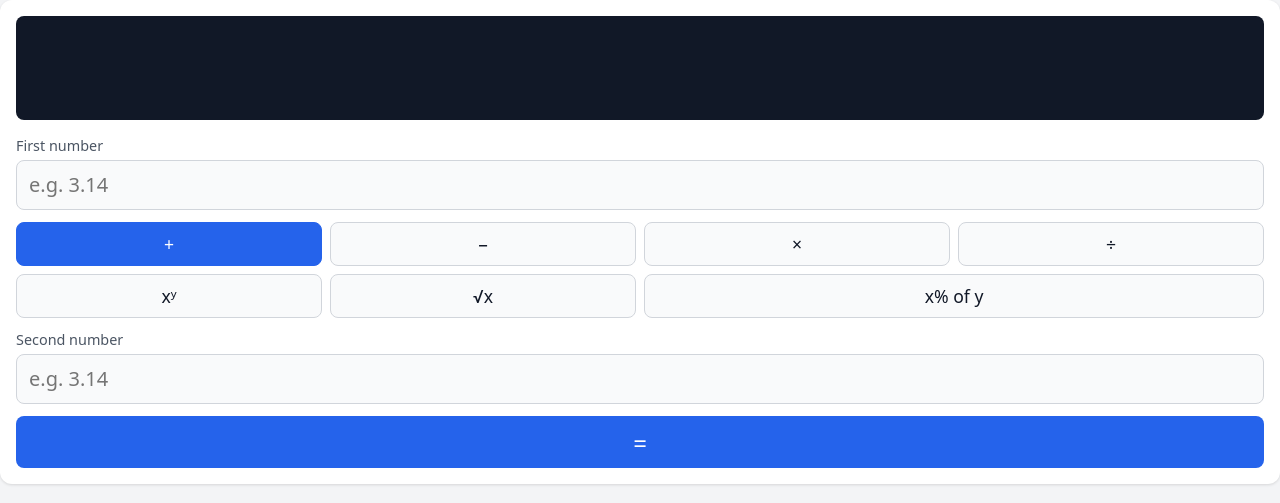
Test: Calculator › shows API errors and moves focus to them
The width and height of the screenshot is (1280, 503).
In the field labelled "First number": coordinates (640, 185) left=16, top=160, right=1264, bottom=210, type "1"
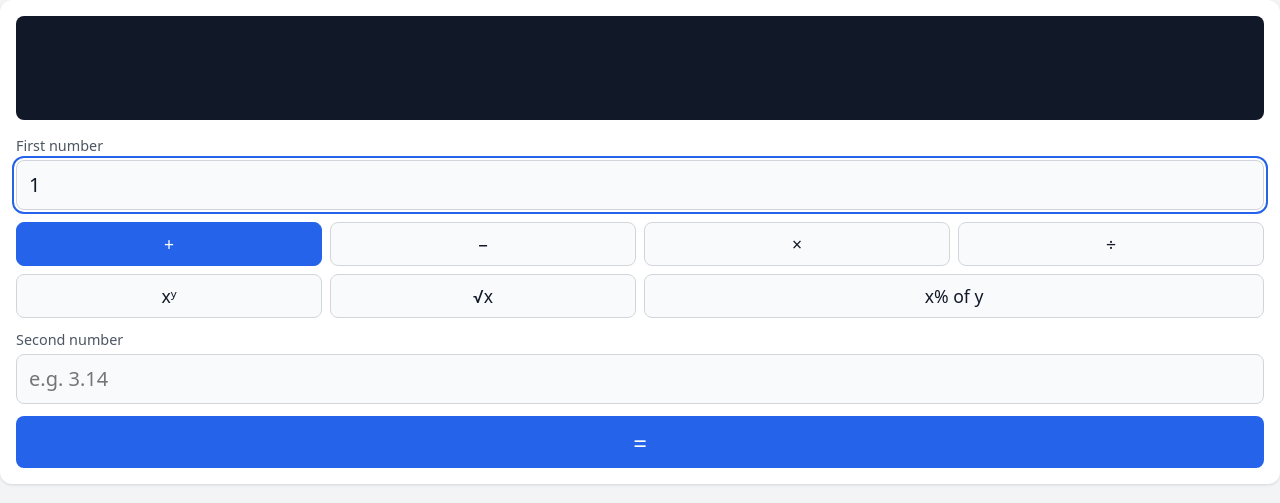
Click the radio button named "Divide": coordinates (1111, 244) left=958, top=222, right=1264, bottom=266
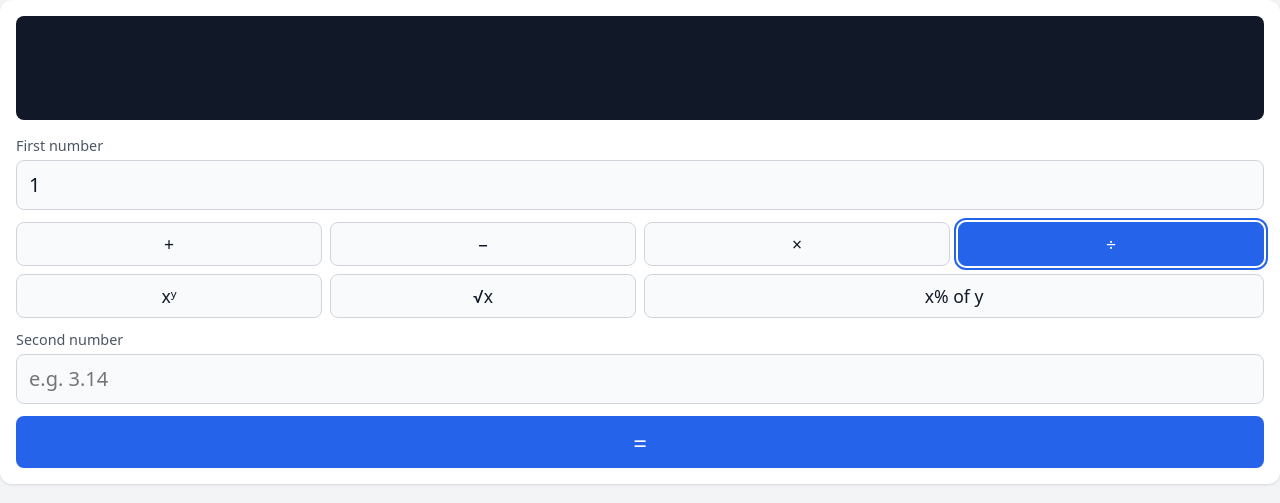
In the field labelled "Second number": coordinates (640, 379) left=16, top=354, right=1264, bottom=404, type "0"
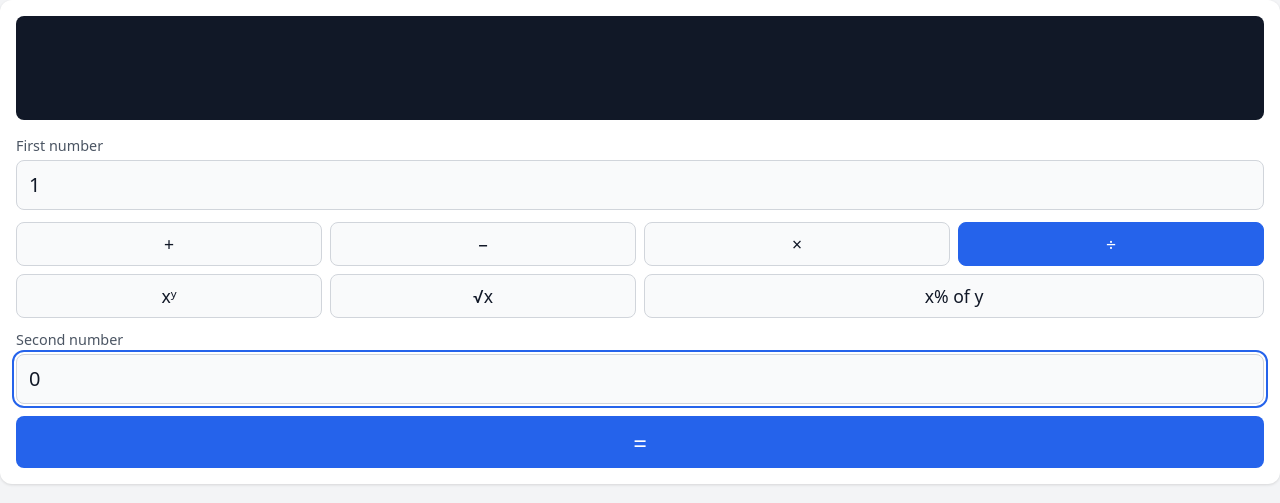
Click the button named "Calculate": coordinates (640, 442) left=16, top=416, right=1264, bottom=468
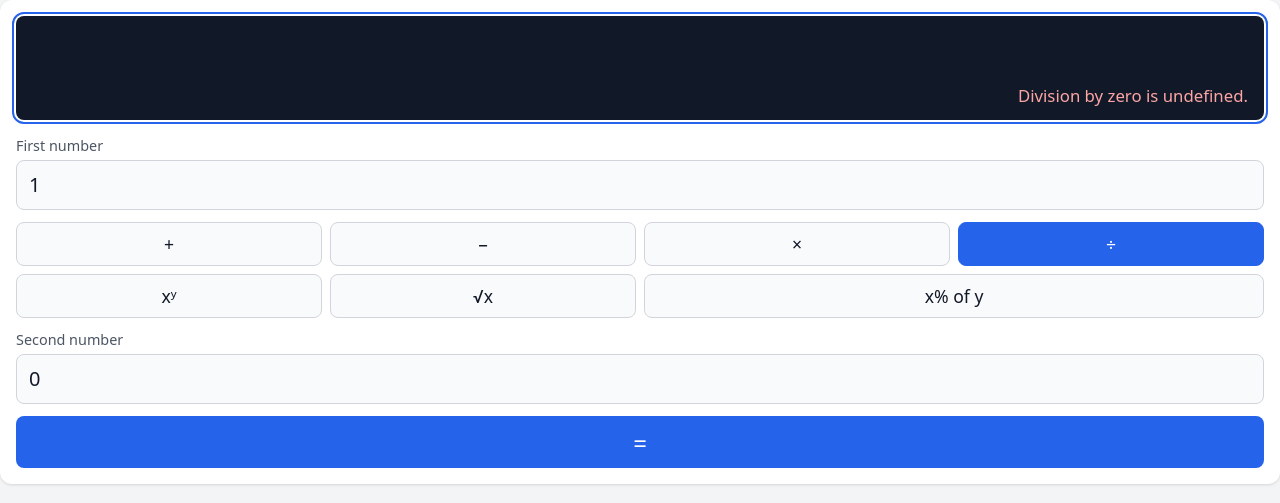
Now the message reads "Division by zero is undefined.", box left=1018, top=84, right=1248, bottom=108
